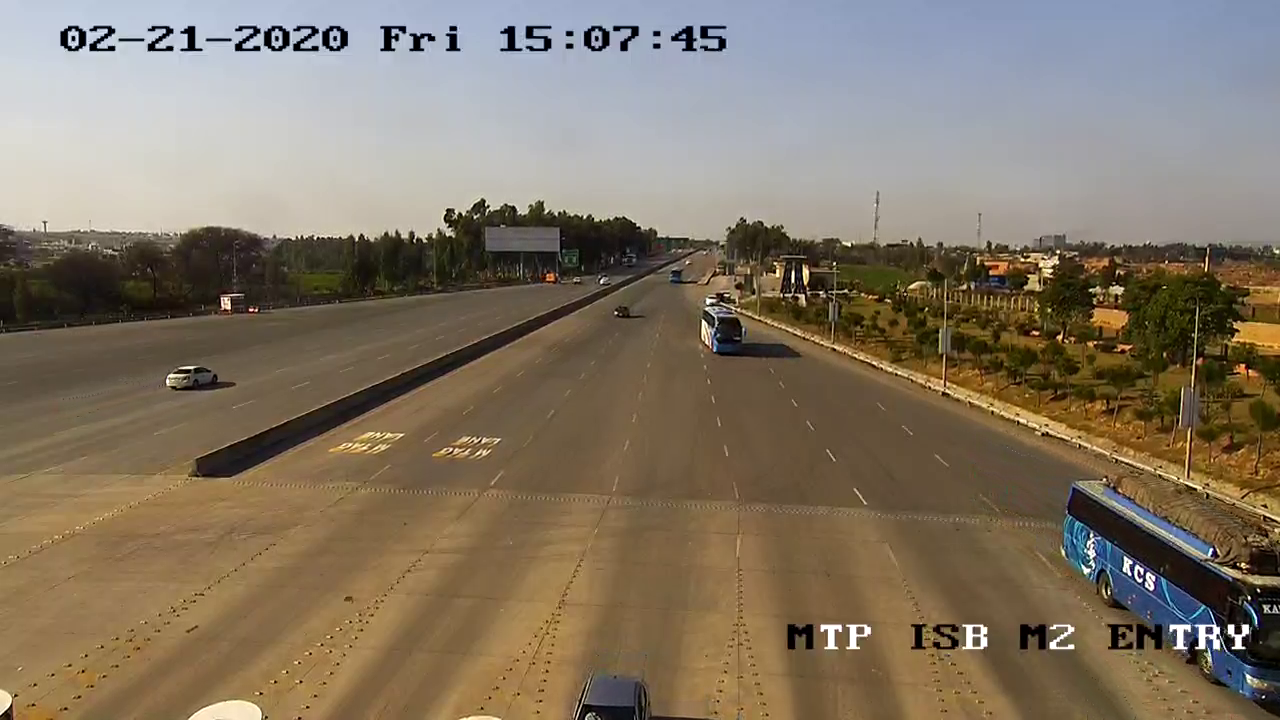f4: (688, 301, 752, 375)
